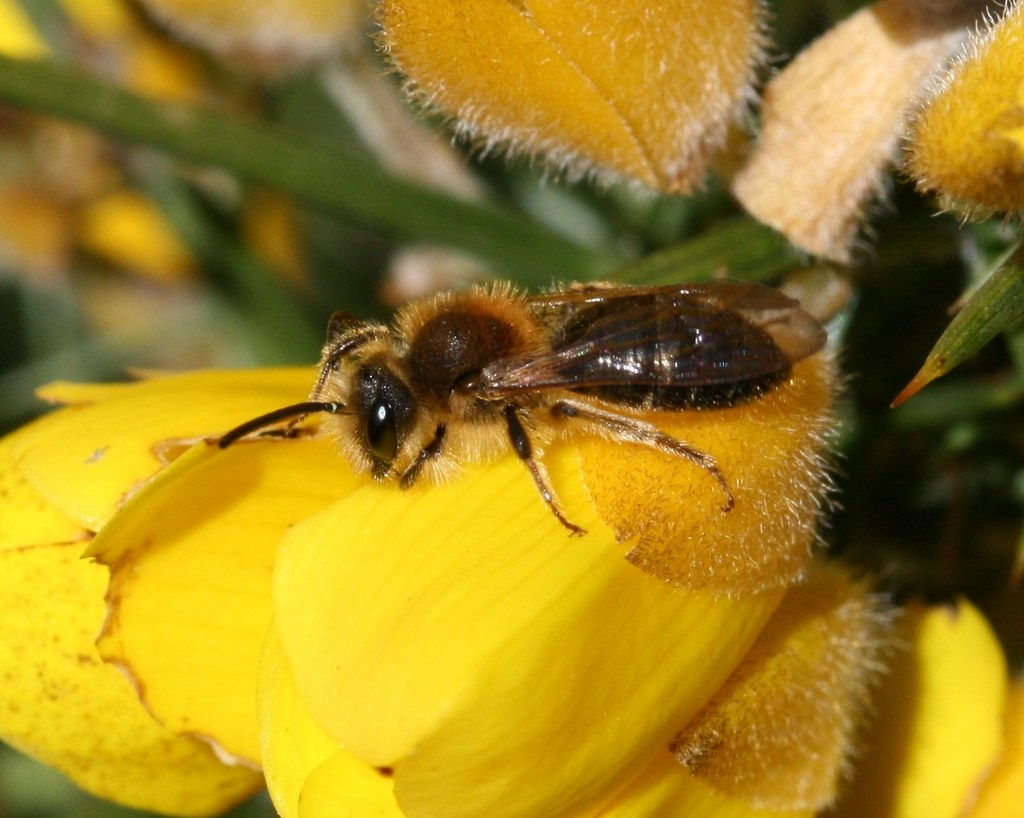bee: (180, 252, 844, 570)
insect: (0, 223, 1023, 817)
